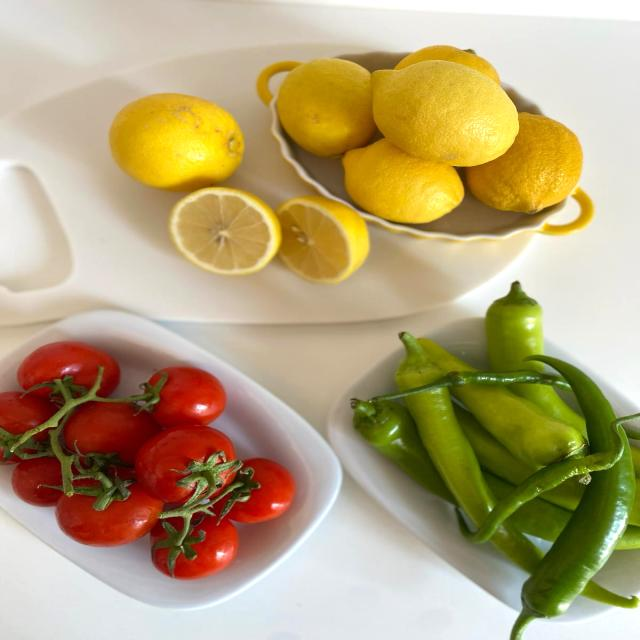green pepper: (388, 345, 640, 640)
lemon: (366, 55, 526, 172), (237, 188, 395, 290), (102, 88, 250, 187), (161, 184, 284, 282)
tomato: (34, 456, 185, 557), (120, 421, 259, 512)
